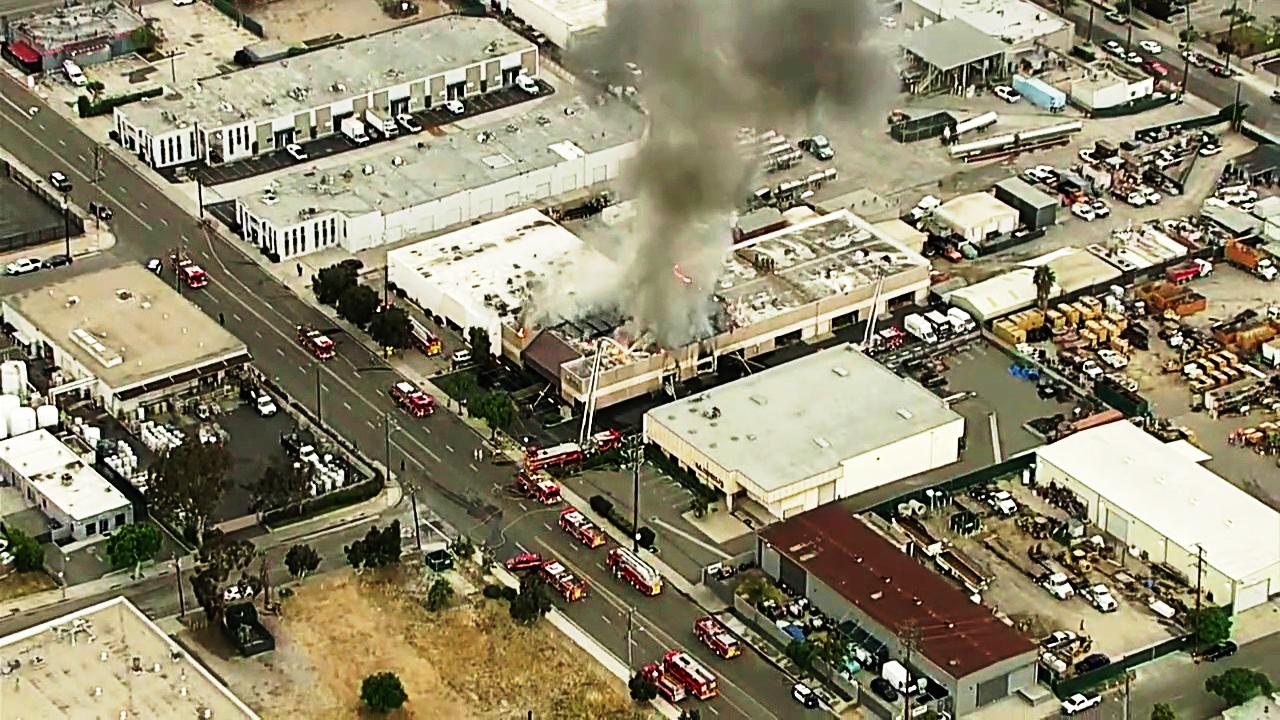smoke: (615, 54, 690, 309)
